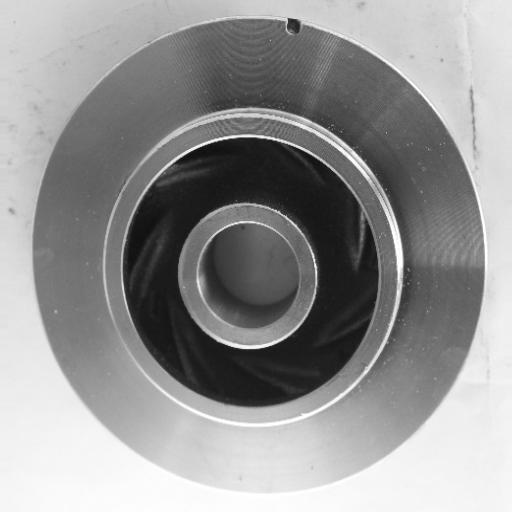pit: (274, 6, 317, 39)
unpolished_casting: (29, 14, 491, 497)
